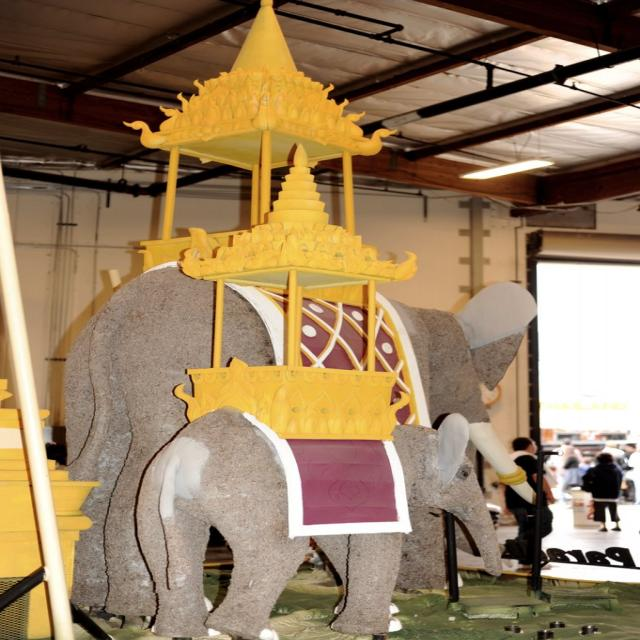elephant: (52, 287, 518, 615), (132, 405, 508, 639)
